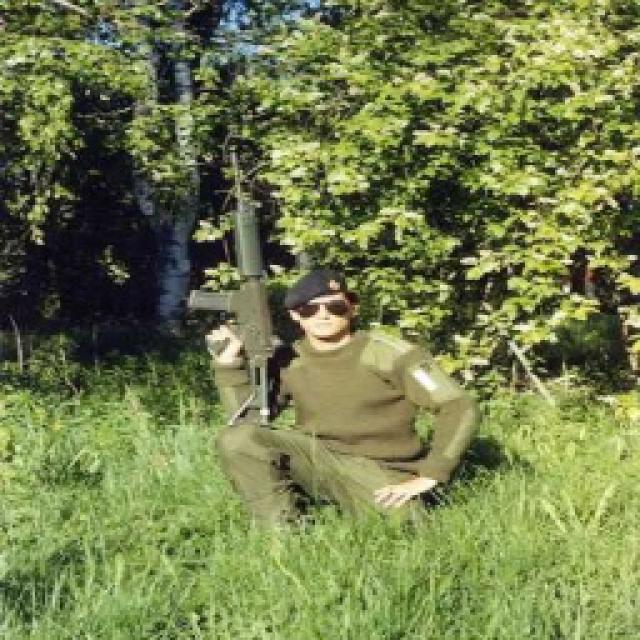long weapon: (189, 150, 286, 451)
